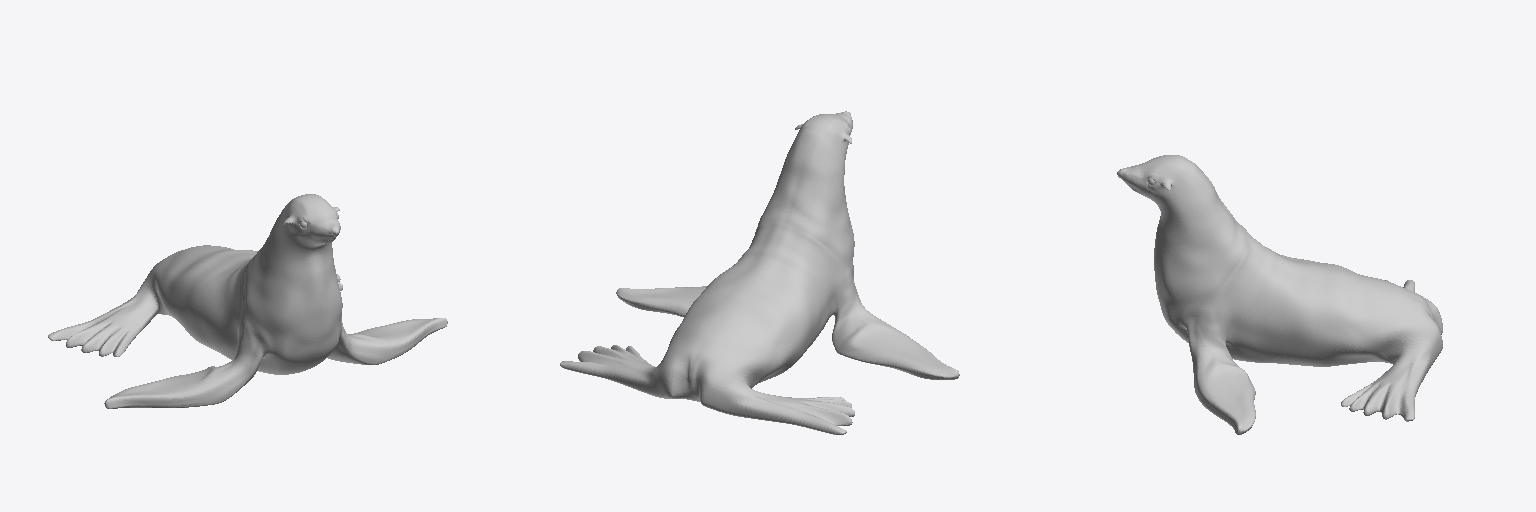
The model's file is seal.obj.
3 renders of one model, left to right at view 1: azimuth 30°, elevation 25°; view 2: azimuth 150°, elevation 25°; view 3: azimuth 270°, elevation 25°, orthographic.
Parts seen in each view (by area): view 1: seal; view 2: seal; view 3: seal.
Part boxes in pixels (x1,y1,x2,y2): seal: (48,194,447,408); seal: (560,111,959,434); seal: (1117,155,1442,434).
Bounding box in the file's own units: 1.85 × 1.02 × 1.53.